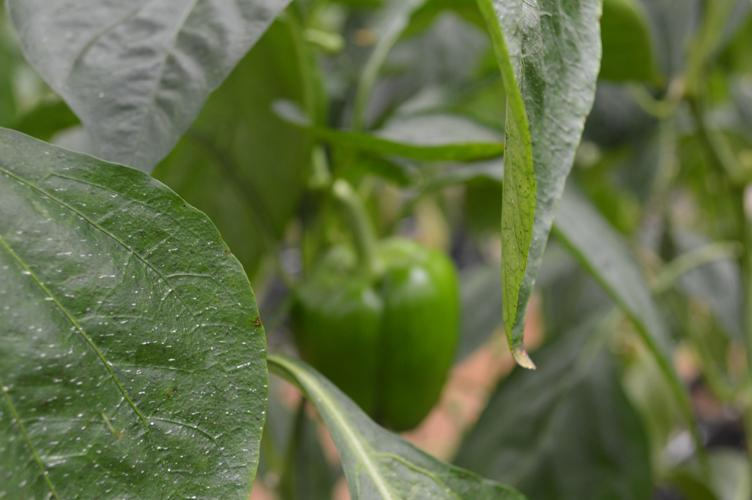BellPepper: (293, 232, 470, 444)
